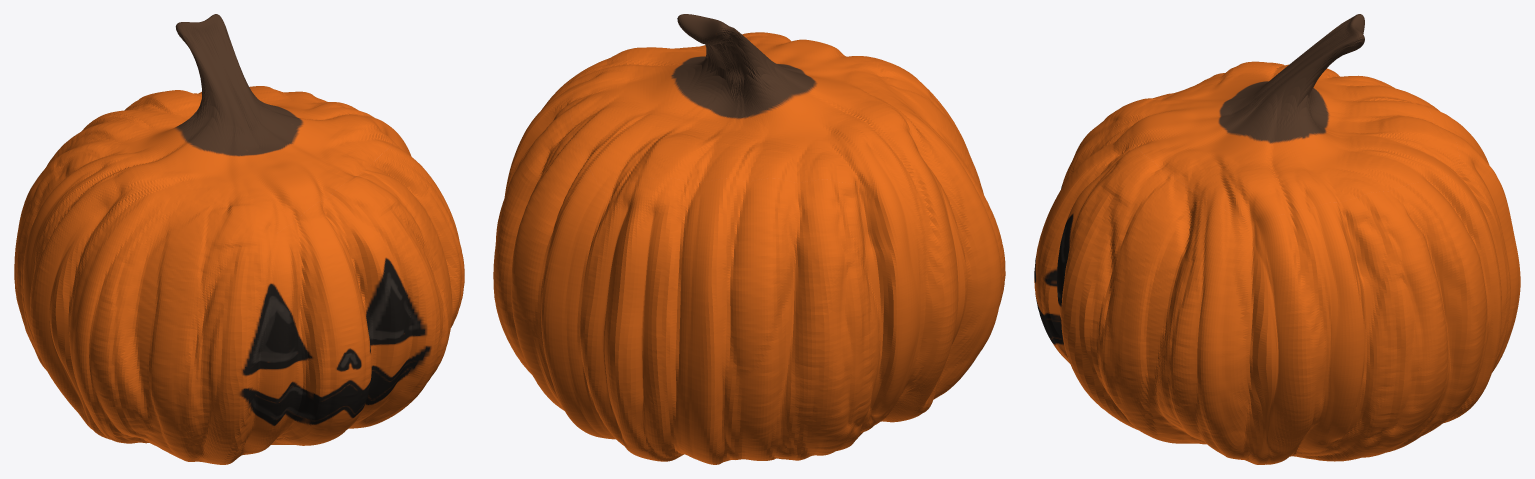
The model's file is Project_jack-o-lantern.obj.
3 views of the same model, side by side, from view 1: azimuth 30°, elevation 25°; view 2: azimuth 150°, elevation 25°; view 3: azimuth 270°, elevation 25° (orthographic). The views are drawn at different scales.
Visible parts, largest first — view 1: Quad_Sphere_Quad_Sphere; view 2: Quad_Sphere_Quad_Sphere; view 3: Quad_Sphere_Quad_Sphere.
Boxes of the visible parts, bbox=[...] form: Quad_Sphere_Quad_Sphere: bbox=[14, 14, 464, 464]; Quad_Sphere_Quad_Sphere: bbox=[493, 14, 1005, 464]; Quad_Sphere_Quad_Sphere: bbox=[1034, 14, 1520, 464].
Size of the model in its own units: 0.9095 by 0.8252 by 0.9356.
Materials: 1 (1 with a texture image).
